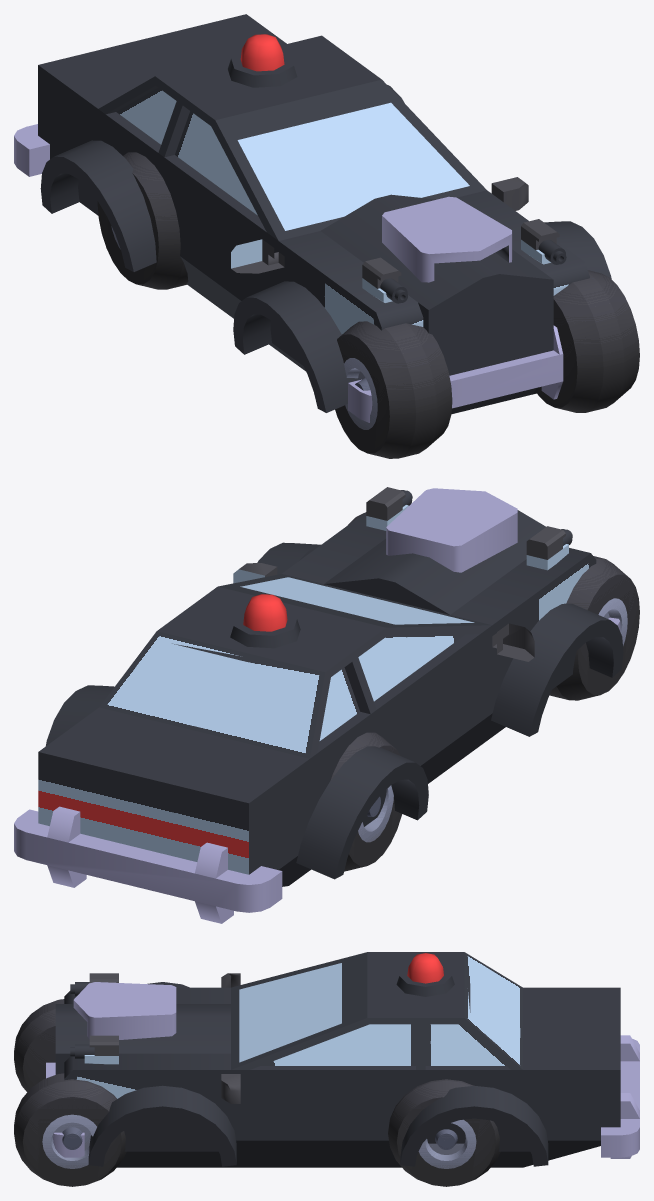
The model's file is hotrod-black-5.glb.
3 renders of one model, top to bottom at view 1: azimuth 30°, elevation 25°; view 2: azimuth 150°, elevation 25°; view 3: azimuth 270°, elevation 25°, orthographic. The views are drawn at different scales.
Visible parts, largest first — view 1: body, wheel-front-right, wheel-front-left, wheel-back-right; view 2: body, wheel-front-right, wheel-back-right; view 3: body, wheel-front-left, wheel-back-left, wheel-front-right.
Part boxes in pixels (box(x1,y1,x2,y2)): body: box(14, 14, 611, 422); wheel-front-right: box(335, 321, 452, 458); wheel-front-left: box(536, 270, 639, 412); wheel-back-right: box(97, 152, 188, 289); body: box(14, 487, 623, 923); wheel-front-right: box(549, 556, 639, 700); wheel-back-right: box(331, 732, 402, 871); body: box(46, 952, 639, 1167); wheel-front-left: box(14, 1073, 126, 1186); wheel-back-left: box(388, 1079, 500, 1186); wheel-front-right: box(14, 999, 64, 1092).
Size of the model in its own units: 1.51 by 1.07 by 3.21.
2 materials, 2 textured.
